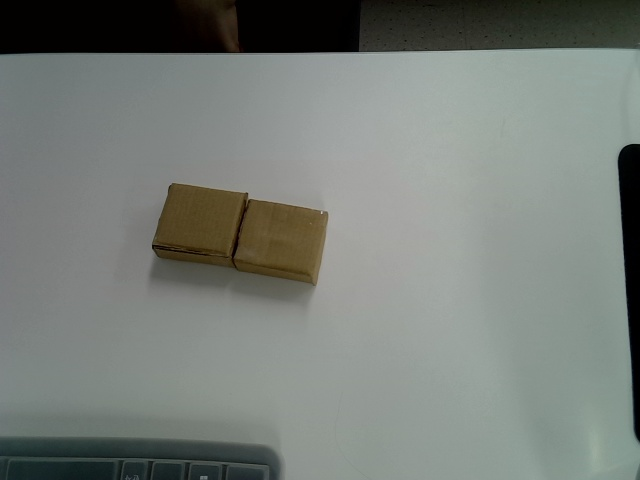normal: (233, 198, 329, 285), (151, 182, 248, 268)
